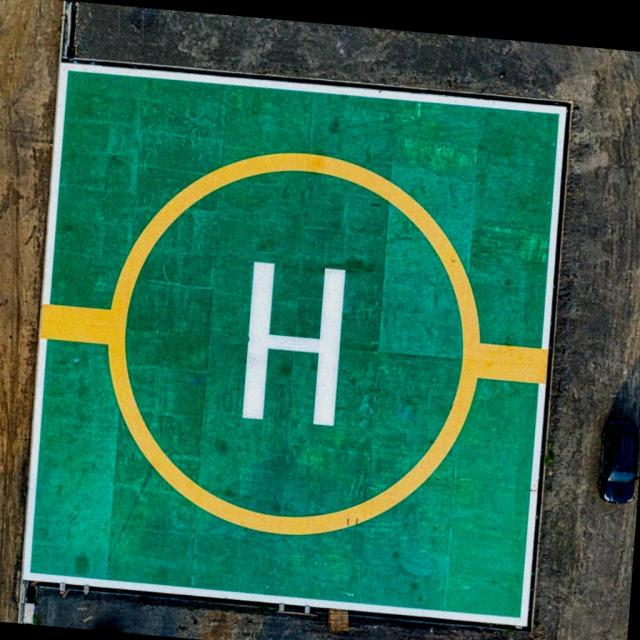helipad: (103, 143, 481, 539)
